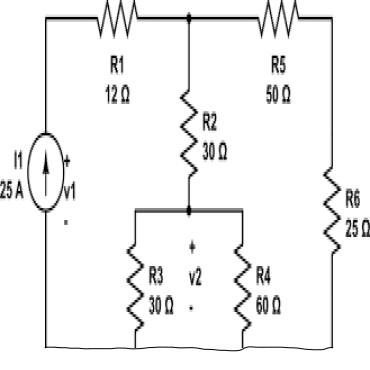Current Source: (1, 131, 77, 212)
Resistor: (124, 240, 176, 333), (97, 1, 142, 106), (256, 1, 301, 106), (322, 164, 370, 256), (180, 87, 229, 176), (234, 241, 282, 330)
